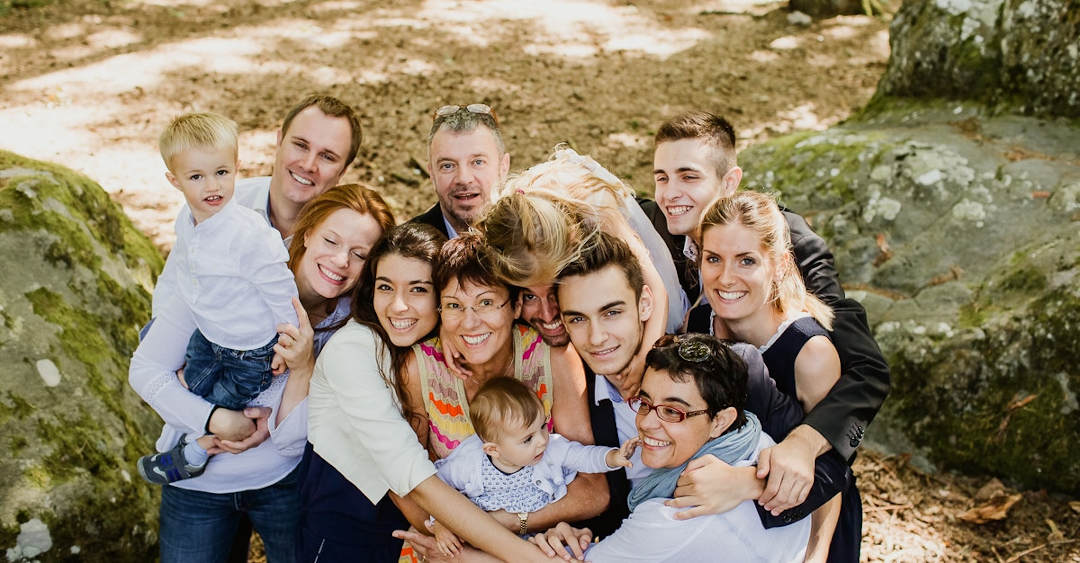without_mask: (627, 382, 706, 468), (561, 297, 656, 366), (698, 240, 773, 324), (365, 274, 449, 338), (274, 131, 345, 200), (646, 164, 724, 226), (309, 231, 379, 298), (432, 152, 500, 216), (443, 297, 512, 359), (180, 158, 238, 214), (521, 286, 570, 348), (515, 414, 553, 472)
